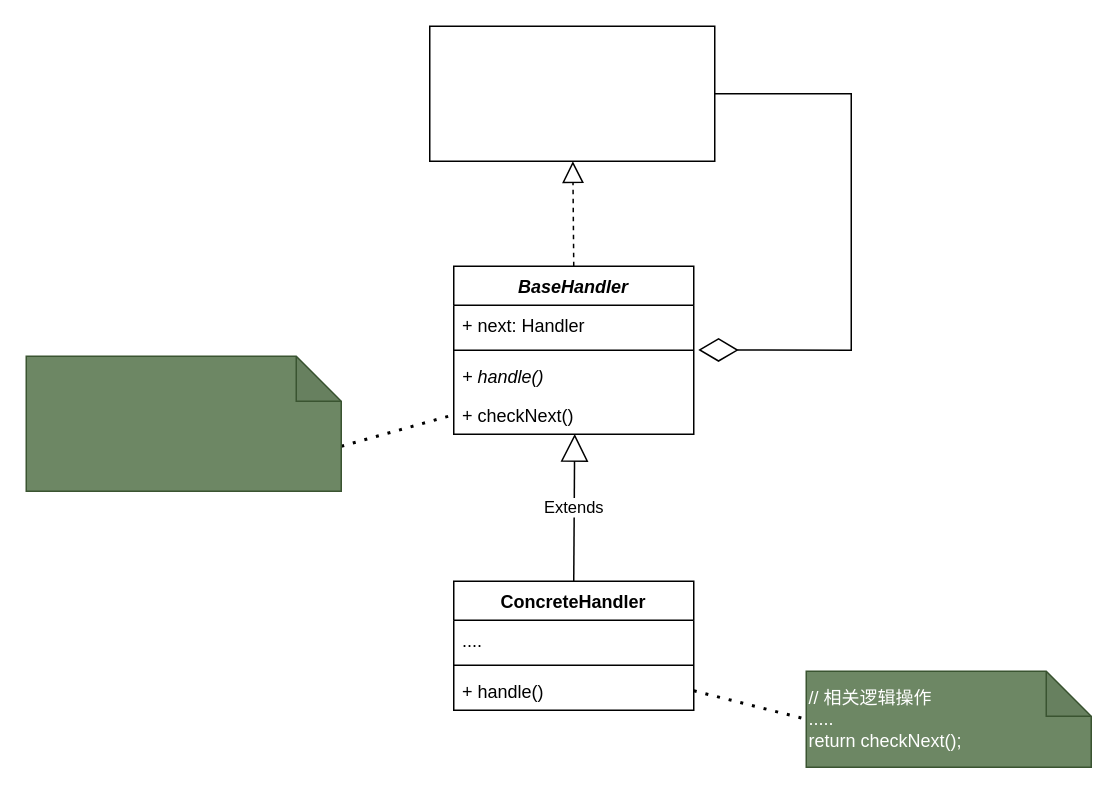
The diagram is 1118 pixels wide and 794 high, and some of its shapes have lost their labels. The box of each missing label's shape, as (x1, y1, x2, y2) in pixels:
<<Interface>> Handler + handle(): (428, 25, 715, 161)
if(next == null) { return true; } return handle();: (25, 355, 341, 491)
